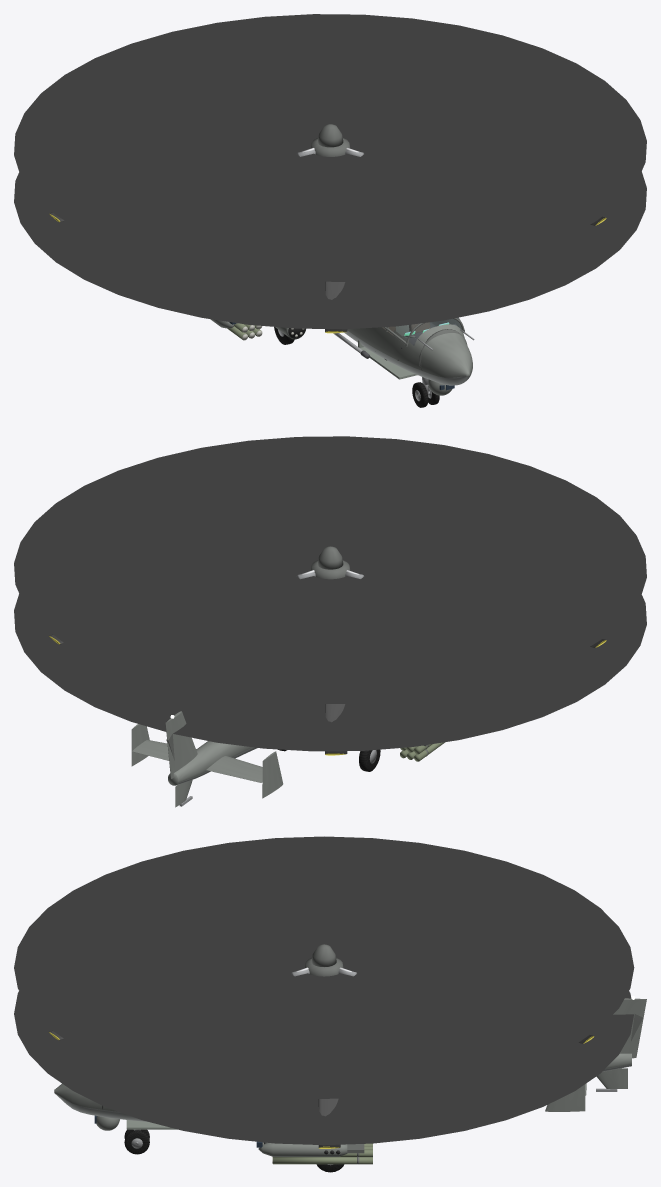
3 views of the same model, one above another, from view 1: azimuth 30°, elevation 25°; view 2: azimuth 150°, elevation 25°; view 3: azimuth 270°, elevation 25° (orthographic). The views are drawn at different scales.
Parts seen in each view (by area): view 1: rotor_disc, rotor_disc2, ka52_body, rotor_upper_geo; view 2: rotor_disc, rotor_disc2, ka52_body, rotor_upper_geo; view 3: rotor_disc, rotor_disc2, ka52_body, rotor_upper_geo, atgm_10, gear_nose_geo.
Part boxes in pixels (<box>): rotor_disc: <box>14,14,646,281</box>; rotor_disc2: <box>14,144,646,329</box>; ka52_body: <box>210,317,474,385</box>; rotor_upper_geo: <box>49,124,606,225</box>; rotor_disc: <box>14,436,646,704</box>; rotor_disc2: <box>14,566,646,751</box>; ka52_body: <box>131,711,427,807</box>; rotor_upper_geo: <box>49,546,606,647</box>; rotor_disc: <box>14,836,634,1098</box>; rotor_disc2: <box>14,964,633,1145</box>; ka52_body: <box>54,996,646,1156</box>; rotor_upper_geo: <box>49,944,594,1043</box>; atgm_10: <box>272,1157,372,1164</box>; gear_nose_geo: <box>124,1129,149,1154</box>.
Size of the model in its own units: 14.6 by 5.37 by 14.9.
26 materials, 3 textured.
